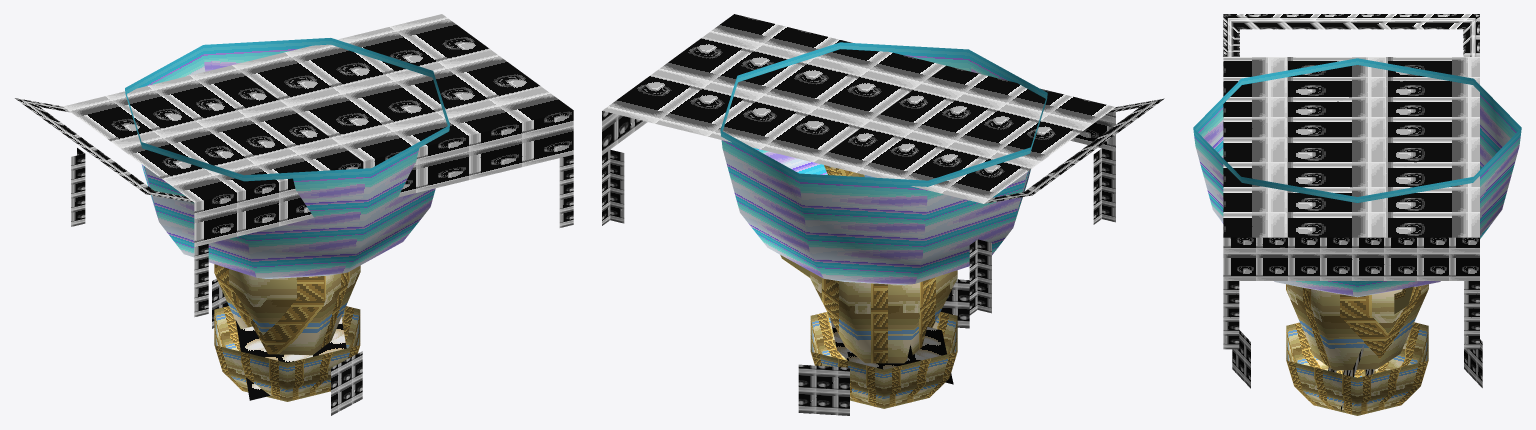
File: 5248eve_water_ka.gltf
3 renders of one model, left to right at view 1: azimuth 30°, elevation 25°; view 2: azimuth 150°, elevation 25°; view 3: azimuth 270°, elevation 25°, orthographic. The views are drawn at different scales.
Parts seen in each view (by area): view 1: 5248eve_water_ka; view 2: 5248eve_water_ka; view 3: 5248eve_water_ka.
Part boxes in pixels (x1,y1,x2,y2): 5248eve_water_ka: (15,14,573,415); 5248eve_water_ka: (602,14,1164,415); 5248eve_water_ka: (1193,14,1521,415).
Bounding box in the file's own units: 1.72 × 1.16 × 1.17.
4 materials, 4 textured.
